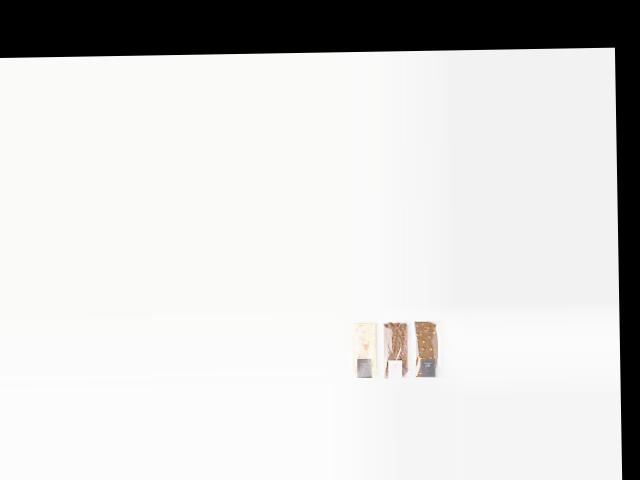chocolate: (412, 315, 447, 376)
